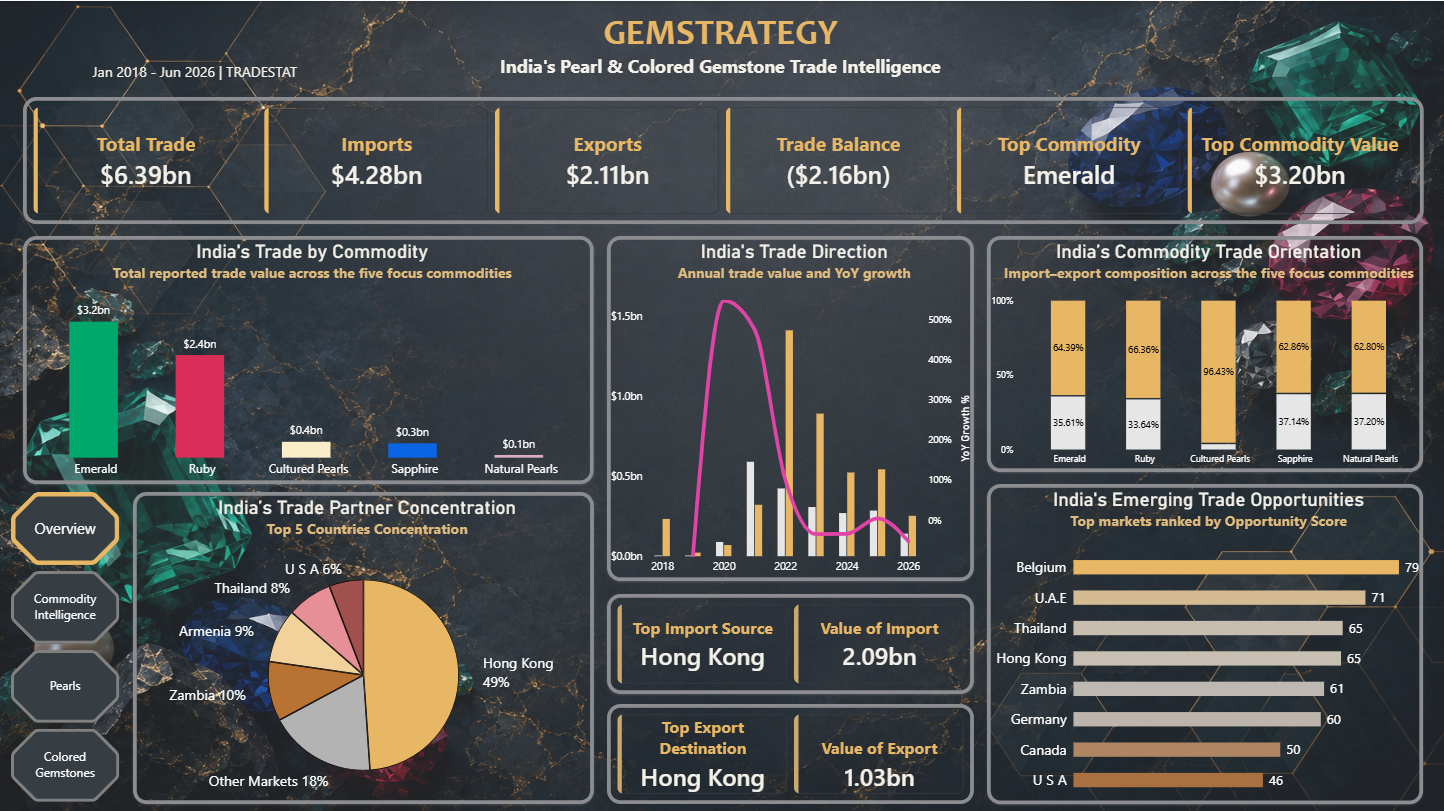

Layout of this report page (visuals, bound fields, positions):
{"tool":"powerbi","page":{"name":"Overview","canvas":[1920,1080],"ordinal":0},"visuals":[{"type":"cardVisual","fields":{"Data":["Measure.Total Trade","Measure.Imports","Measure.Exports","Measure.Trade Balance","Measure.Top Commodity","Measure.Top Commodity Value"]},"box":[30.1,127.8,1863.1,169.1],"z":0},{"type":"textbox","box":[14.6,10.6,1887.3,109.1],"z":1000},{"type":"textbox","box":[38.8,81.4,441,28.8],"z":2000},{"type":"lineClusteredColumnComboChart","title":"India''s Trade Direction","fields":{"Category":["Dim_Date.period_date.Variation.Date Hierarchy.Year"],"Y":["Measure.Trade Value (Total Rows)"],"Series":["Fact_Trade.trade_flow_key"],"Y2":["Measure.YoY Growth %"]},"box":[807.3,312.6,488.1,458.9],"z":3000},{"type":"pageNavigator","box":[14.6,653.1,145,415],"z":4000},{"type":"clusteredColumnChart","title":"India''s Trade by Commodity","fields":{"Category":["Dim_HS_Code.commodity_name"],"Y":["Measure.Trade Value (Total Rows)"]},"box":[30.6,312.6,759.5,329.9],"z":5000},{"type":"cardVisual","fields":{"Data":["Measure.Top Import Source","Measure.Top Import Source Value"]},"box":[807.3,788.7,488.1,133],"z":6000},{"type":"cardVisual","fields":{"Data":["Measure.Top Export Destination","Measure.Top Export Destination Value"]},"box":[807.3,935,488.1,133],"z":7000},{"type":"clusteredBarChart","title":"India''s Emerging Trade Opportunities","fields":{"Category":["Dim_Country.country_name"],"Y":["Measure.Opportunity Score"]},"box":[1312.8,642.4,579.9,425.6],"z":8000},{"type":"pieChart","title":"India’s Trade Partner Concentration","fields":{"Category":["Trade Concentration.Country"],"Y":["Measure.Trade Concentration Value"]},"box":[176.9,653.1,613.2,415],"z":9000},{"type":"hundredPercentStackedColumnChart","title":"India’s Commodity Trade Orientation","fields":{"Category":["Dim_HS_Code.commodity_name"],"Y":["Measure.Trade Value (Total Rows)"],"Series":["Fact_Trade.trade_flow_key"]},"box":[1313,313,580,314],"z":10000}]}

Visuals, with their boxes in screenshot pixels (x1, y1, x2, y2), scaled from the page's 1920x1080 canvas onto the 1444x811 screenshot:
cardVisual - Measure.Total Trade x Measure.Imports: (x1=23, y1=96, x2=1424, y2=223)
textbox: (x1=11, y1=8, x2=1430, y2=90)
textbox: (x1=29, y1=61, x2=361, y2=83)
"India''s Trade Direction" lineClusteredColumnComboChart: (x1=607, y1=235, x2=974, y2=579)
pageNavigator: (x1=11, y1=490, x2=120, y2=802)
"India''s Trade by Commodity" clusteredColumnChart: (x1=23, y1=235, x2=594, y2=482)
cardVisual - Measure.Top Import Source x Measure.Top Import Source Value: (x1=607, y1=592, x2=974, y2=692)
cardVisual - Measure.Top Export Destination x Measure.Top Export Destination Value: (x1=607, y1=702, x2=974, y2=802)
"India''s Emerging Trade Opportunities" clusteredBarChart: (x1=987, y1=482, x2=1423, y2=802)
"India’s Trade Partner Concentration" pieChart: (x1=133, y1=490, x2=594, y2=802)
"India’s Commodity Trade Orientation" hundredPercentStackedColumnChart: (x1=987, y1=235, x2=1424, y2=471)
